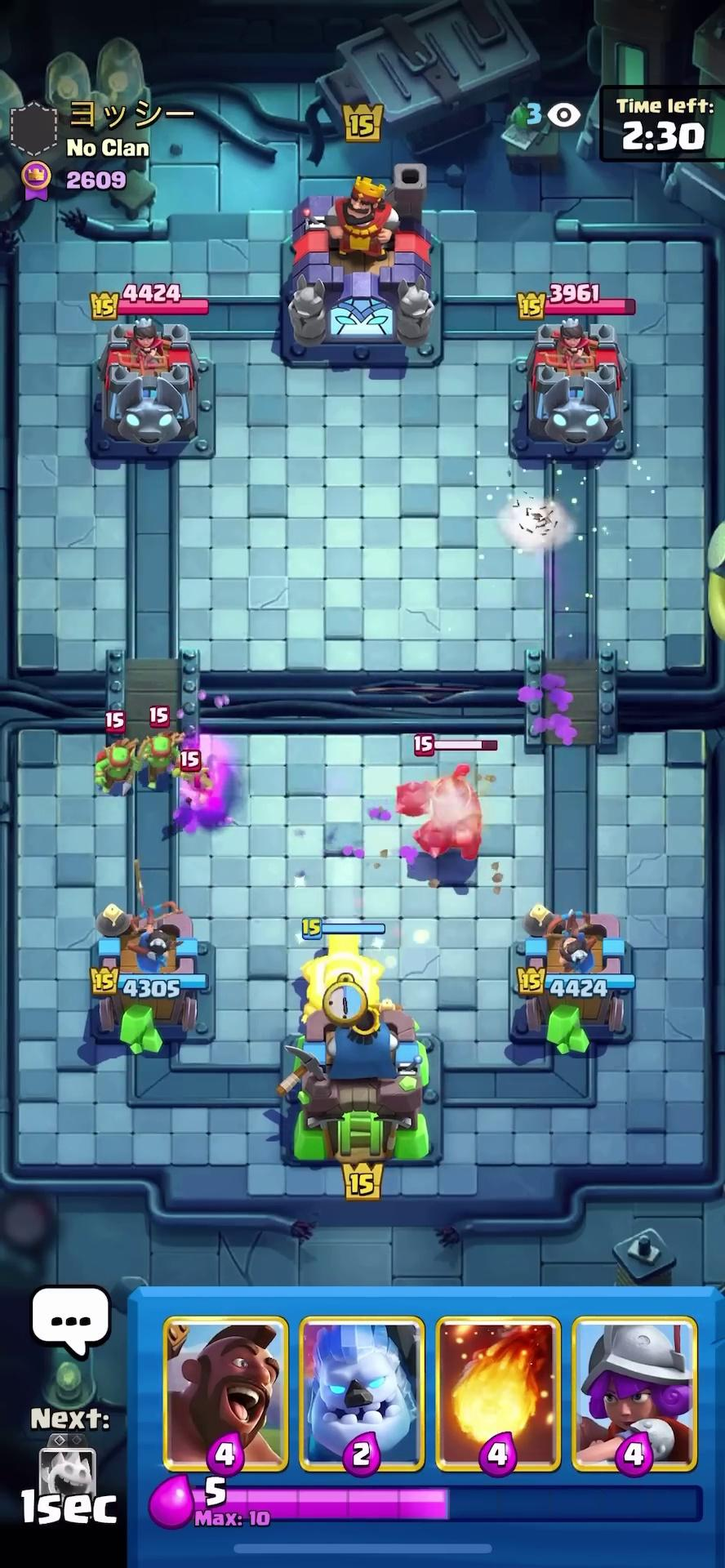cannon: (298, 909, 392, 1031)
